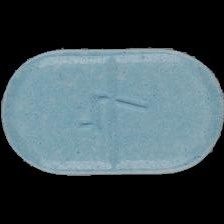49349-901: (0, 0, 224, 224)
